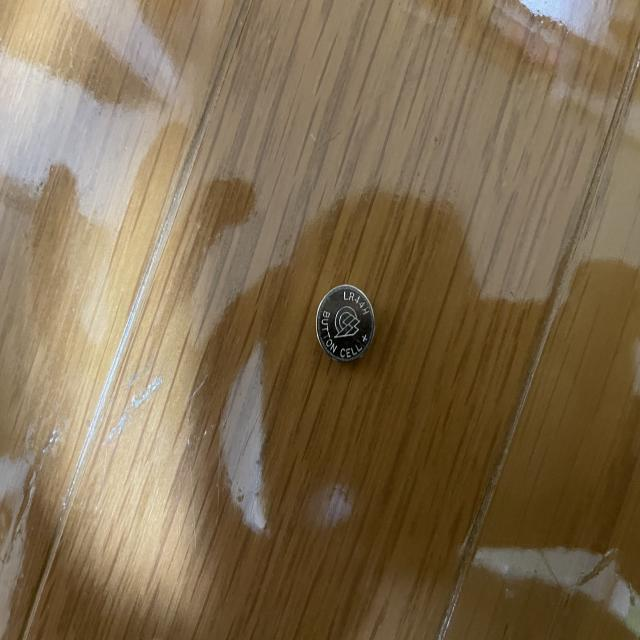COIN: (315, 284, 375, 364)
